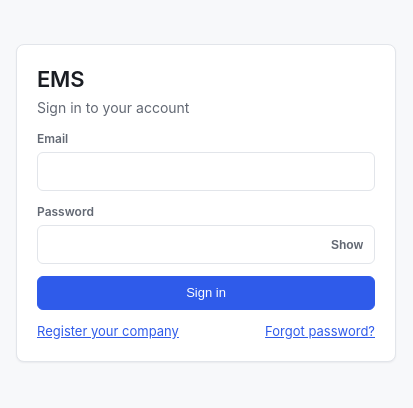
Test: Sub-feature 1.1: LoginPage › renders error alert when login fails (e.g. invalid credentials 401)
The width and height of the screenshot is (413, 408).
Type "wrong@example.com" into the field labelled "Email".
click(206, 172); type("wrong@example.com")  # box [37,152,375,191]
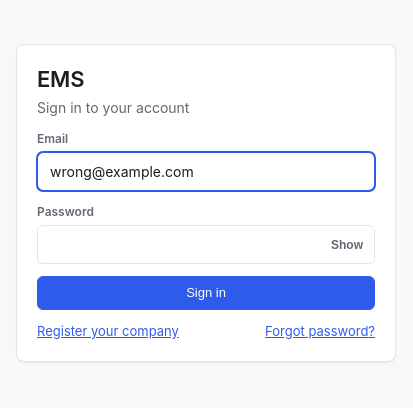
Type "BadPass123!" into the password field labelled "Password".
click(206, 245); type("BadPass123!")  # box [37,225,375,264]
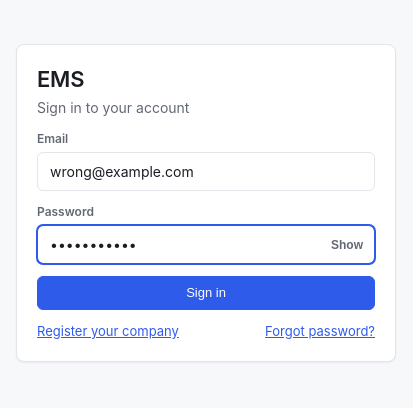
Click the button "Sign in".
click(206, 293)  # box [37,276,375,310]
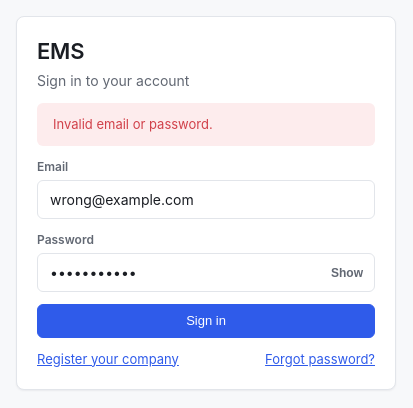
Expected: the text "Invalid email or password." is shown, [37,102,375,146]
